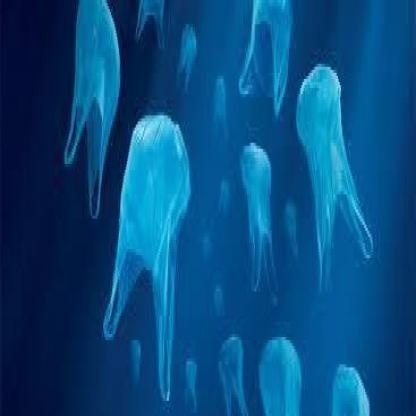pbag: (100, 112, 192, 404), (295, 61, 374, 298), (63, 3, 122, 219), (239, 140, 279, 310)
